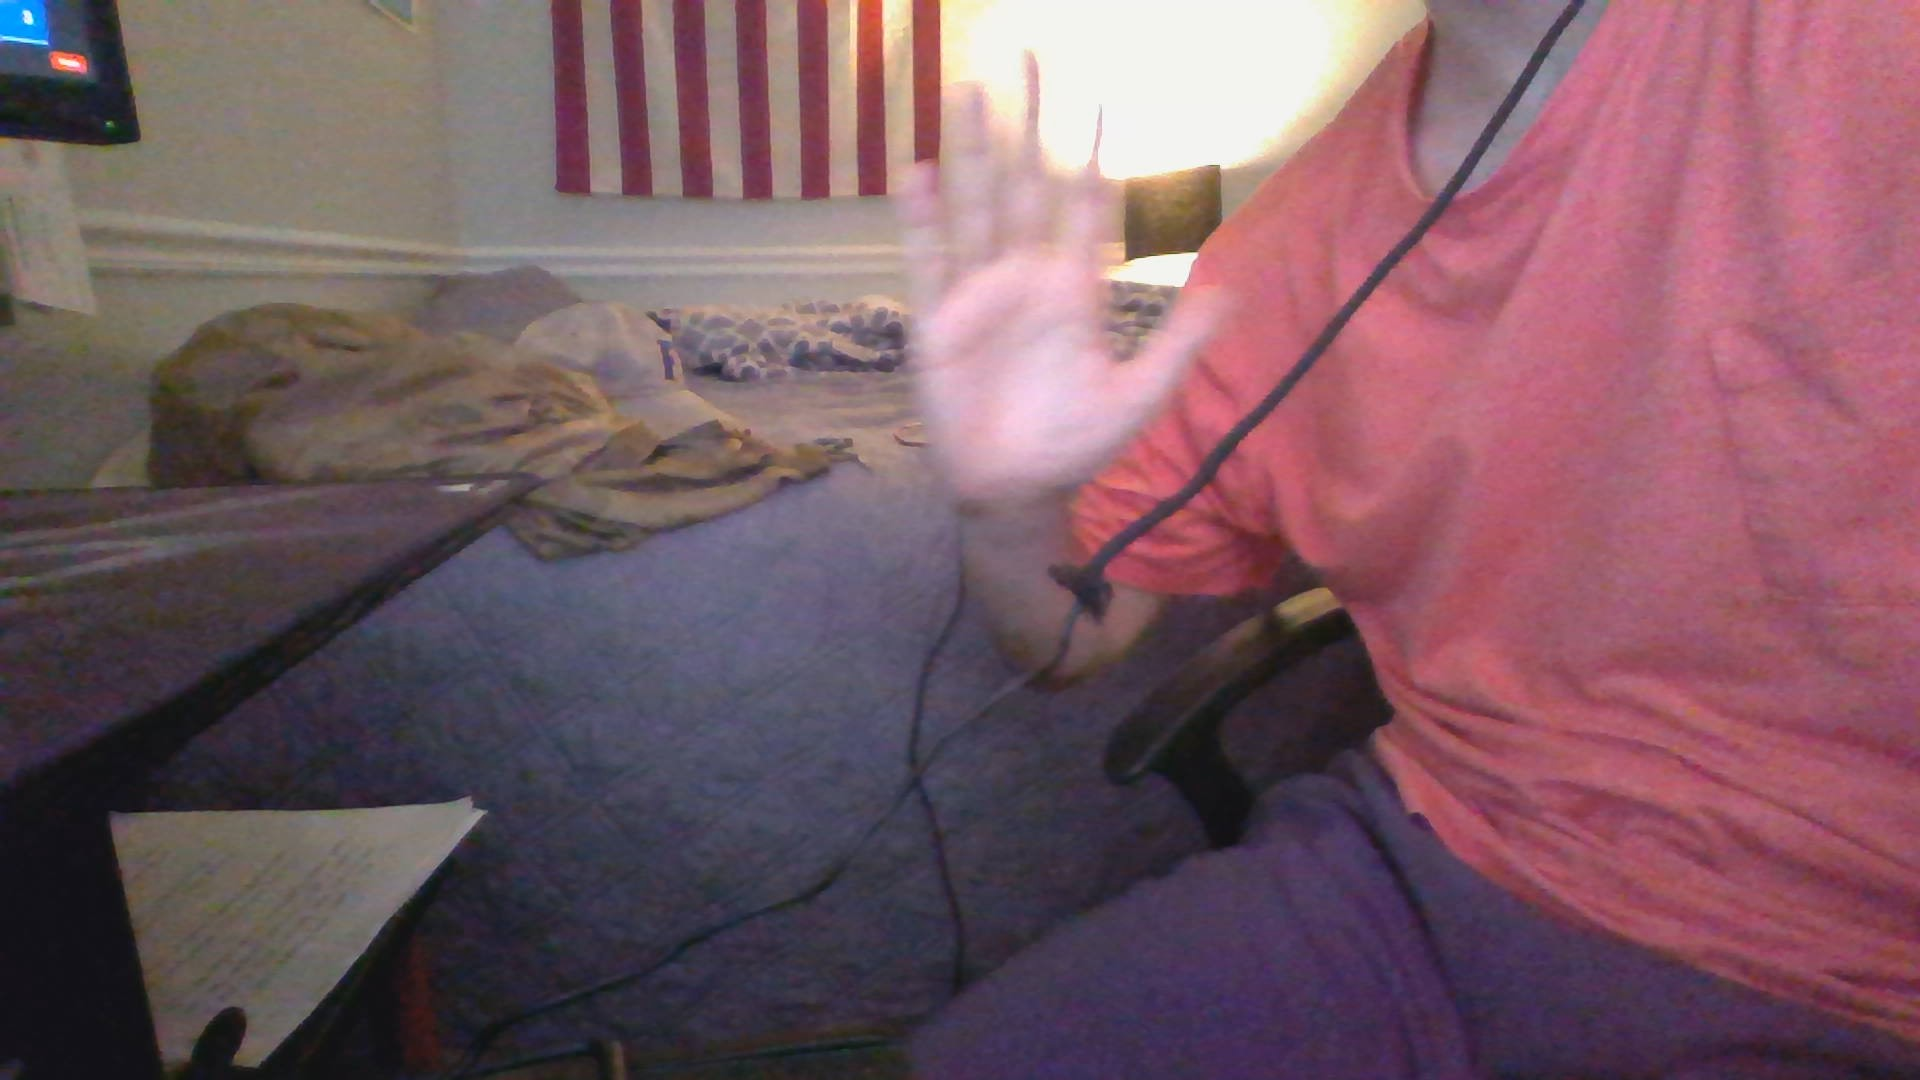Right Palm Up: (862, 61, 1242, 489)
